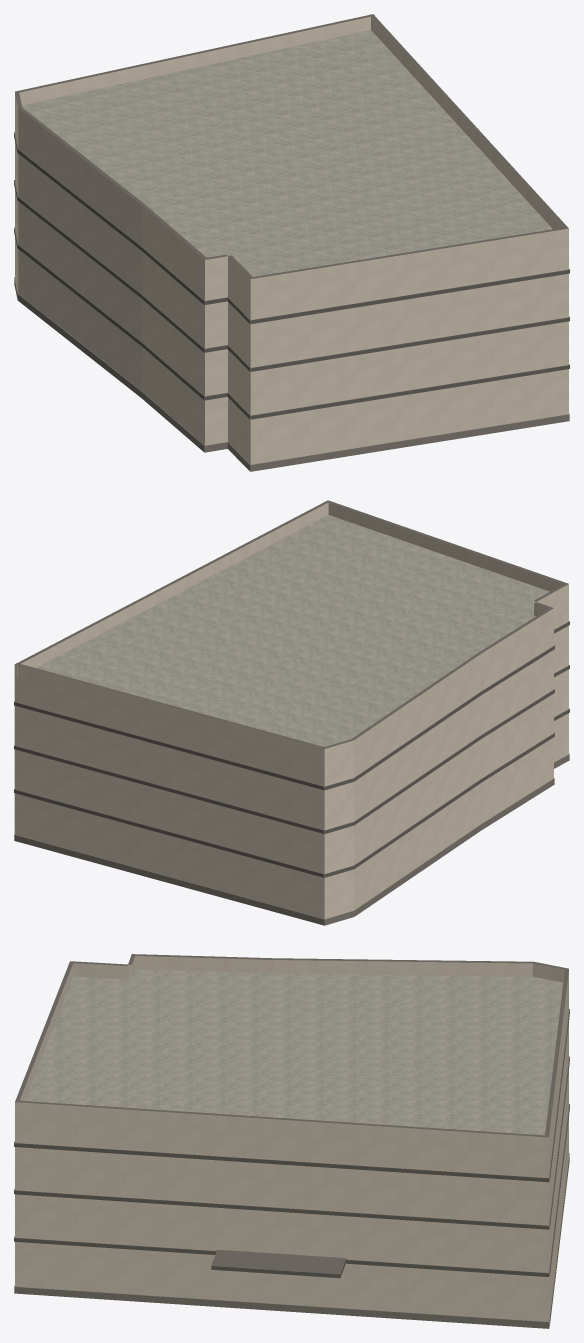
3 renders of one model, top to bottom at view 1: azimuth 30°, elevation 25°; view 2: azimuth 150°, elevation 25°; view 3: azimuth 270°, elevation 25°, orthographic. The views are drawn at different scales.
Parts seen in each view (by area): view 1: B-w297237751_cubierta, B-w297237751_muros, B-w297237751_lejos, B-w297237751_molduras; view 2: B-w297237751_cubierta, B-w297237751_lejos, B-w297237751_muros, B-w297237751_molduras; view 3: B-w297237751_cubierta, B-w297237751_muros, B-w297237751_lejos, B-w297237751_molduras, B-w297237751_remates.
Part boxes in pixels (<box>): B-w297237751_cubierta: <box>15,14,568,279</box>; B-w297237751_muros: <box>15,93,568,464</box>; B-w297237751_lejos: <box>15,106,568,470</box>; B-w297237751_molduras: <box>14,132,569,471</box>; B-w297237751_cubierta: <box>15,500,568,748</box>; B-w297237751_lejos: <box>15,596,568,918</box>; B-w297237751_muros: <box>14,547,568,919</box>; B-w297237751_molduras: <box>14,621,569,925</box>; B-w297237751_cubierta: <box>15,954,568,1148</box>; B-w297237751_muros: <box>15,954,568,1321</box>; B-w297237751_lejos: <box>58,1010,566,1325</box>; B-w297237751_molduras: <box>14,1009,569,1328</box>; B-w297237751_remates: <box>211,1249,346,1278</box>.
Size of the model in its own units: 27.03 by 12.9 by 34.
5 materials, 2 textured.
